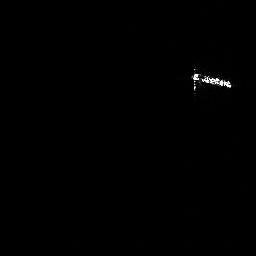ship: (190, 65, 233, 97)
